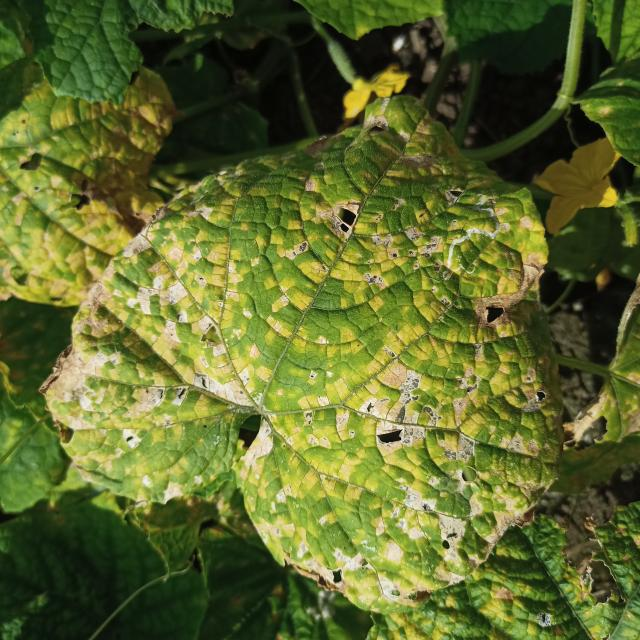disease_cucumber: (74, 115, 556, 588), (0, 66, 169, 300)
